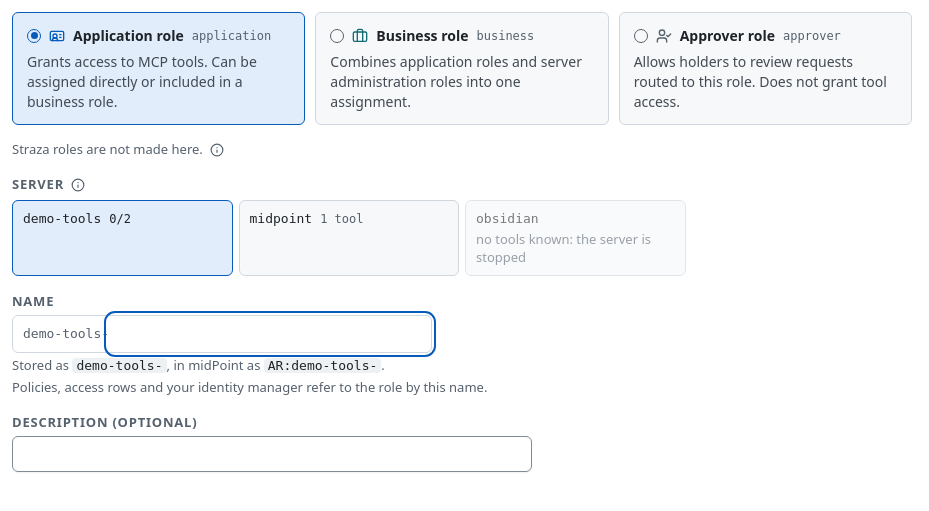
Test: the first step of an application role › warns on a word close to one of the server's roles, and names that role only
Type "reader" into the field named "role name suffix" at [270, 334], box [109,316,431,352]
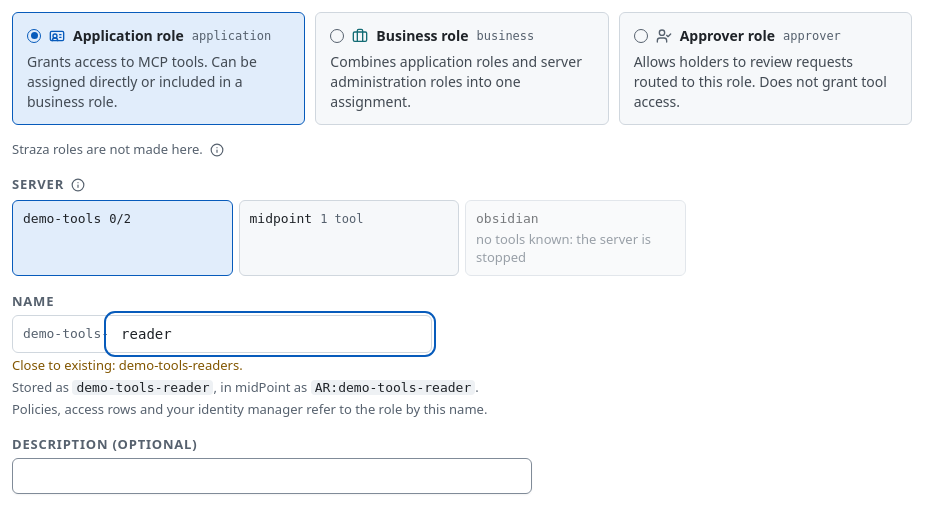
Check: the text "Close to existing: demo-tools-readers." is shown, box [12,356,243,374]
